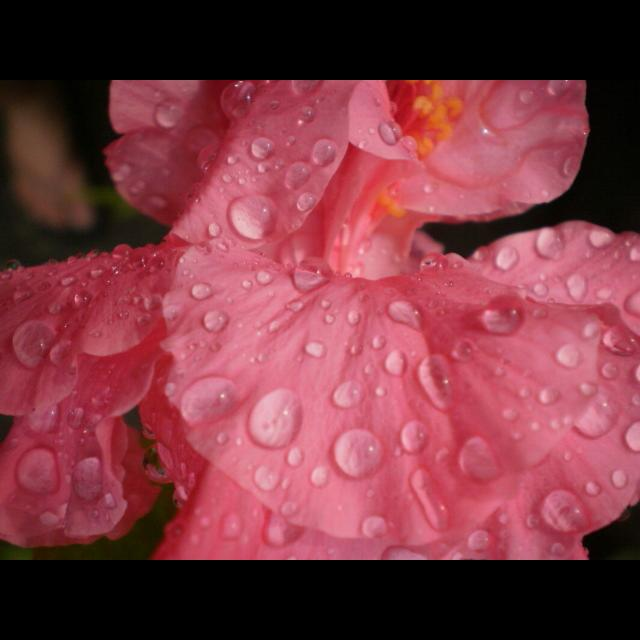Flower: (4, 90, 640, 530)
